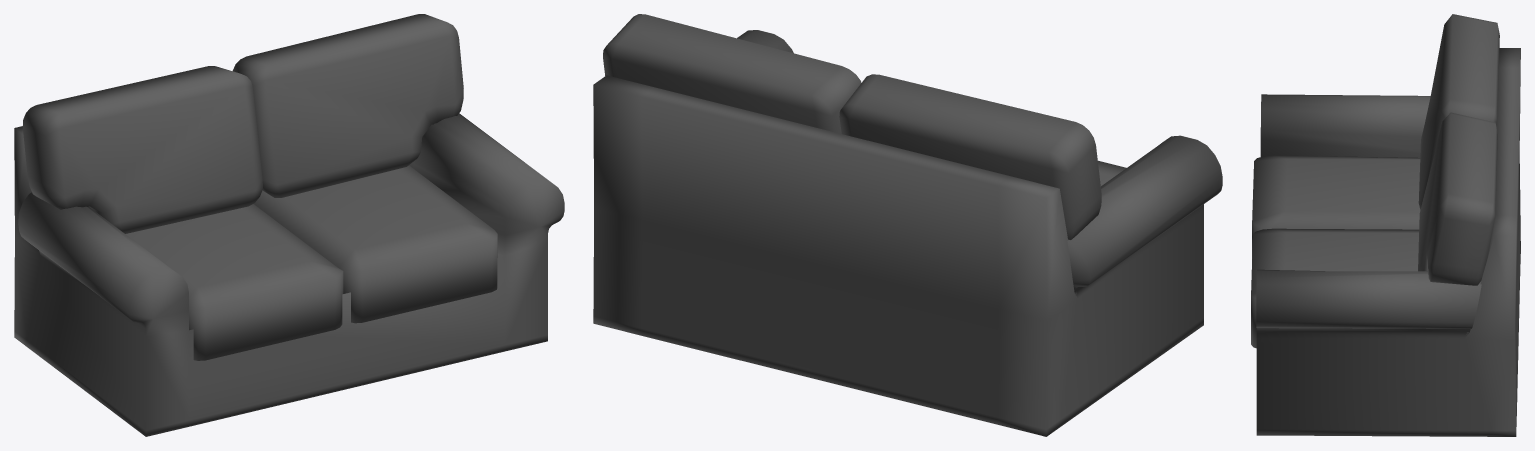
File: sofa_large.glb
3 renders of one model, left to right at view 1: azimuth 30°, elevation 25°; view 2: azimuth 150°, elevation 25°; view 3: azimuth 270°, elevation 25°, orthographic. The views are drawn at different scales.
Visible parts, largest first — view 1: node_Couch_9592.003_details_0; view 2: node_Couch_9592.003_details_0; view 3: node_Couch_9592.003_details_0.
Boxes of the visible parts, x1=… form: node_Couch_9592.003_details_0: x1=14, y1=14, x2=564, y2=436; node_Couch_9592.003_details_0: x1=593, y1=14, x2=1222, y2=436; node_Couch_9592.003_details_0: x1=1251, y1=14, x2=1520, y2=436.
Size of the model in its own units: 1.58 by 0.8612 by 0.884.
1 material, 1 textured.
